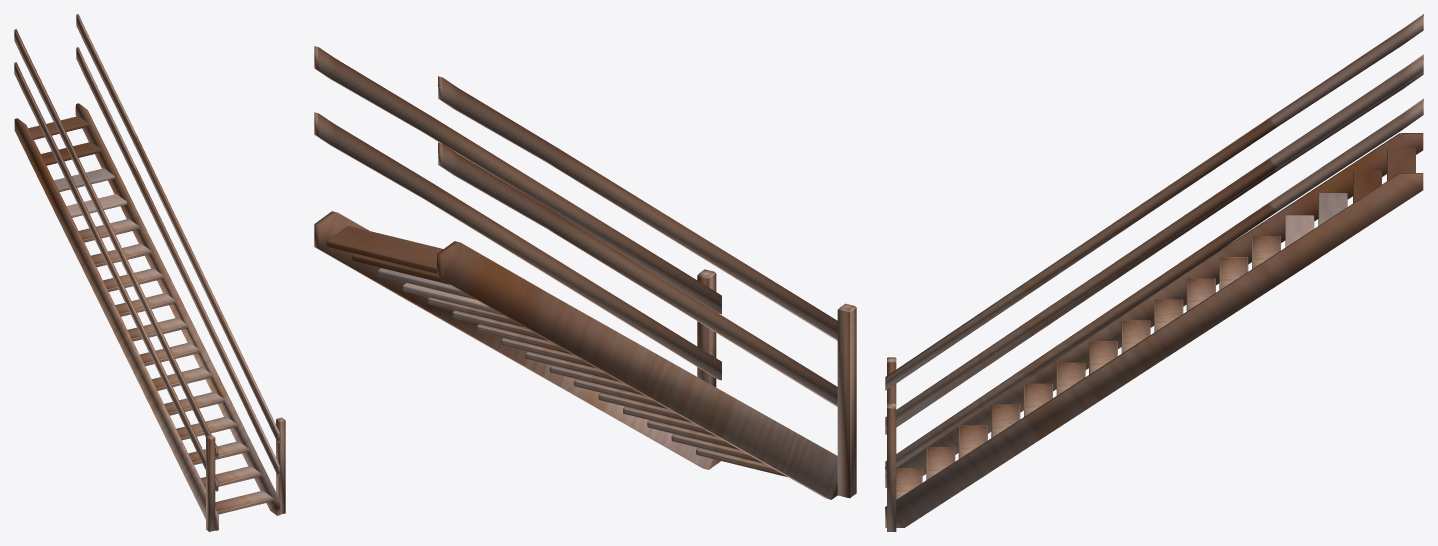
File: stairs.obj
3 views of the same model, side by side, from view 1: azimuth 30°, elevation 25°; view 2: azimuth 150°, elevation 25°; view 3: azimuth 270°, elevation 25° (orthographic). The views are drawn at different scales.
Parts seen in each view (by area): view 1: stairs; view 2: stairs; view 3: stairs.
Part boxes in pixels (bbox=[...]): stairs: bbox=[14, 14, 285, 531]; stairs: bbox=[314, 46, 856, 499]; stairs: bbox=[885, 14, 1423, 531].
Bounding box in the file's own units: 1.01 × 4.48 × 4.63.
1 material, 1 textured.
